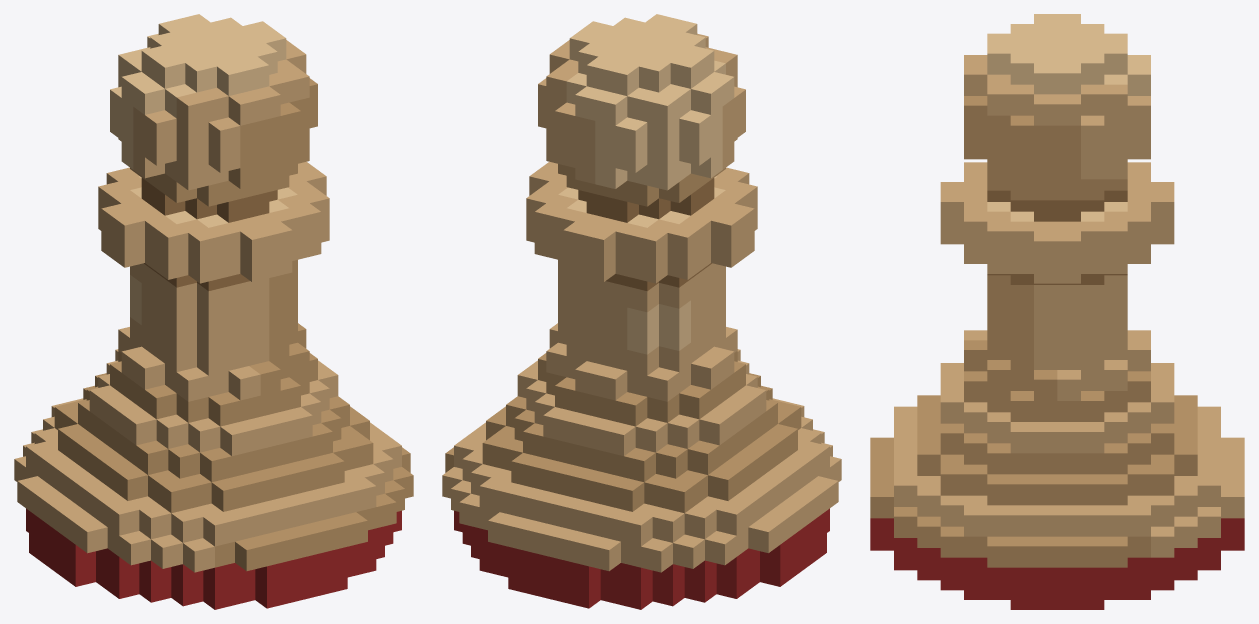
File: pawn.obj
3 renders of one model, left to right at view 1: azimuth 30°, elevation 25°; view 2: azimuth 150°, elevation 25°; view 3: azimuth 270°, elevation 25°, orthographic.
Parts seen in each view (by area): view 1: pawn; view 2: pawn; view 3: pawn.
Part boxes in pixels (x1,y1,x2,y2): pawn: (14, 14, 413, 609); pawn: (442, 14, 841, 609); pawn: (870, 14, 1244, 609).
Size of the model in its own units: 0.336 by 0.483 by 0.336.
Materials: 1 (1 with a texture image).
